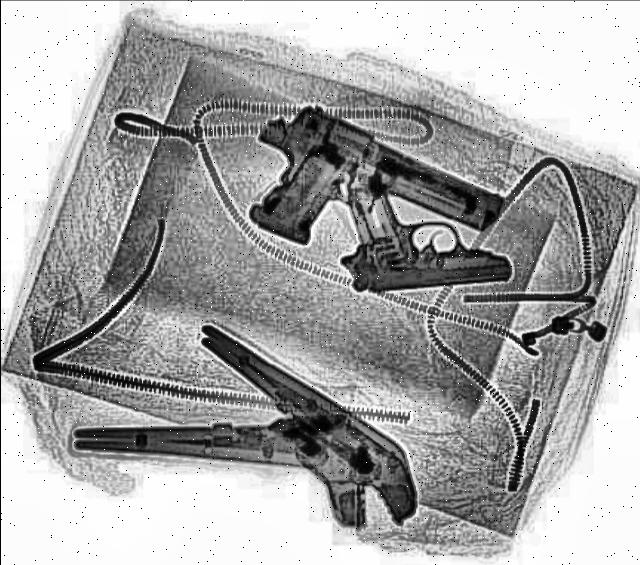Gun: (207, 94, 509, 305), (340, 170, 508, 292)
